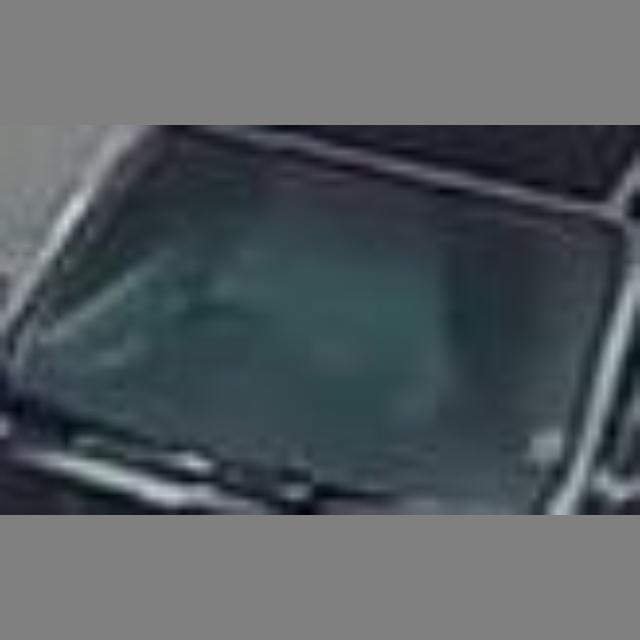tidak-pakai: (187, 180, 453, 398)
